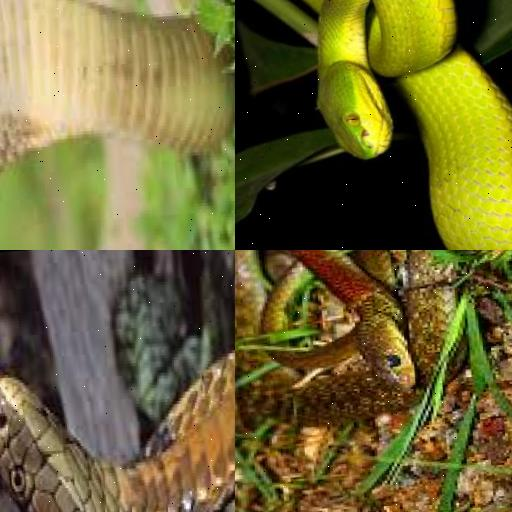snake: (235, 0, 512, 250), (0, 0, 235, 250), (235, 250, 512, 440), (0, 289, 235, 512)
